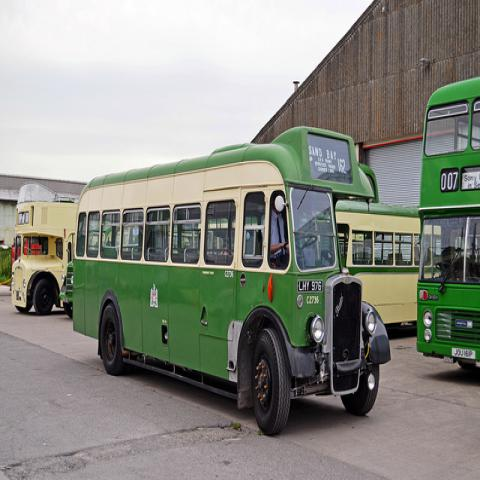bus: (63, 119, 403, 441), (415, 74, 479, 364), (342, 202, 422, 321), (12, 181, 73, 313)
truck: (13, 186, 77, 313), (57, 250, 74, 318)
